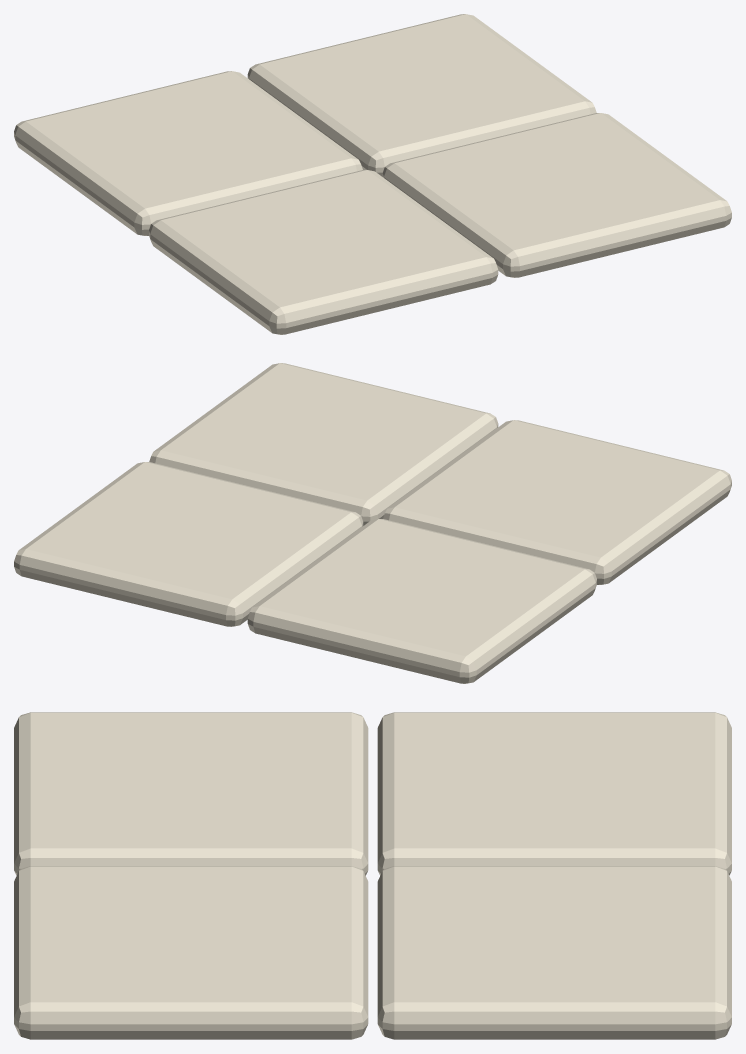
Rendered from Test_CheonRef_PathPlain.fbx.
3 views of the same model, one above another, from view 1: azimuth 30°, elevation 25°; view 2: azimuth 150°, elevation 25°; view 3: azimuth 270°, elevation 25° (orthographic). The views are drawn at different scales.
Parts seen in each view (by area): view 1: BroadPathSlab, BroadPathSlab.002, BroadPathSlab.001, BroadPathSlab.003; view 2: BroadPathSlab.001, BroadPathSlab.003, BroadPathSlab, BroadPathSlab.002; view 3: BroadPathSlab.002, BroadPathSlab.003, BroadPathSlab, BroadPathSlab.001.
Part boxes in pixels (x1,y1,x2,y2): BroadPathSlab: (149,170,498,334); BroadPathSlab.002: (382,113,731,277); BroadPathSlab.001: (14,71,362,235); BroadPathSlab.003: (247,14,596,176); BroadPathSlab.001: (247,519,596,683); BroadPathSlab.003: (14,462,363,626); BroadPathSlab: (383,420,731,584); BroadPathSlab.002: (149,363,498,525); BroadPathSlab.002: (14,866,368,1039); BroadPathSlab.003: (377,866,731,1039); BroadPathSlab: (14,712,368,875); BroadPathSlab.001: (377,712,731,875).
Size of the model in its own units: 194 by 11 by 194.
